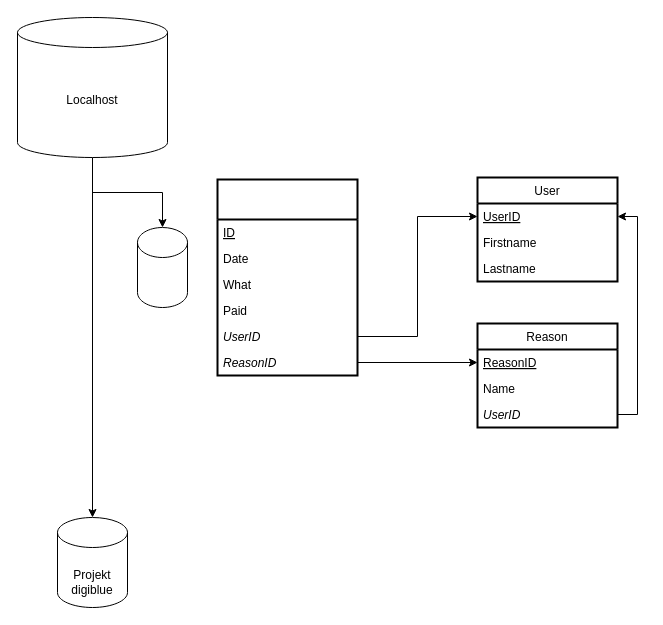
This 663x625 diagram has some shape labels left out. The shapes that lost their labels are listed below. From the top down, each one's box as (x1, y1, x2, y2) in pixels, then its label:
(136, 226, 188, 308): Projekt DNW
(216, 178, 358, 376): Payroll
